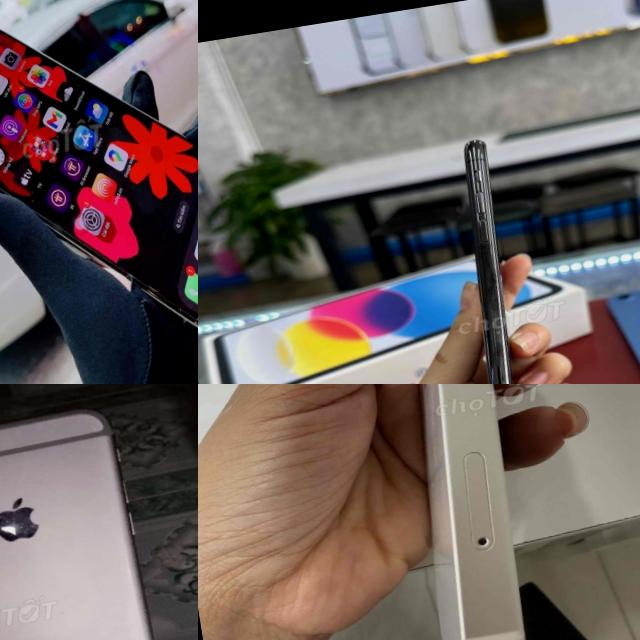gen_14: (356, 384, 569, 640)
gen_15: (0, 0, 198, 378)
gen_6: (0, 395, 198, 640)
gen_x_xs: (421, 126, 550, 384)
